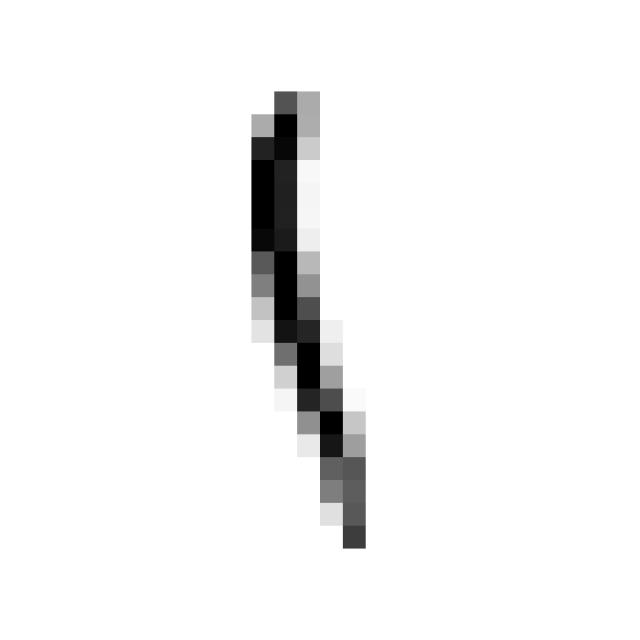1 -one-: (220, 67, 393, 570)
